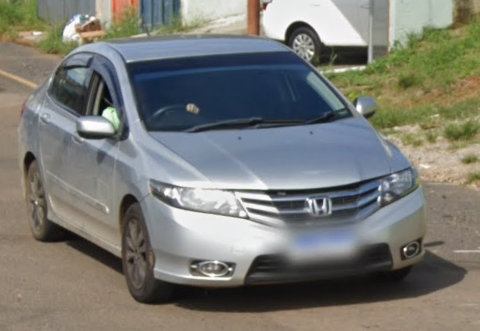car: (16, 16, 434, 306)
